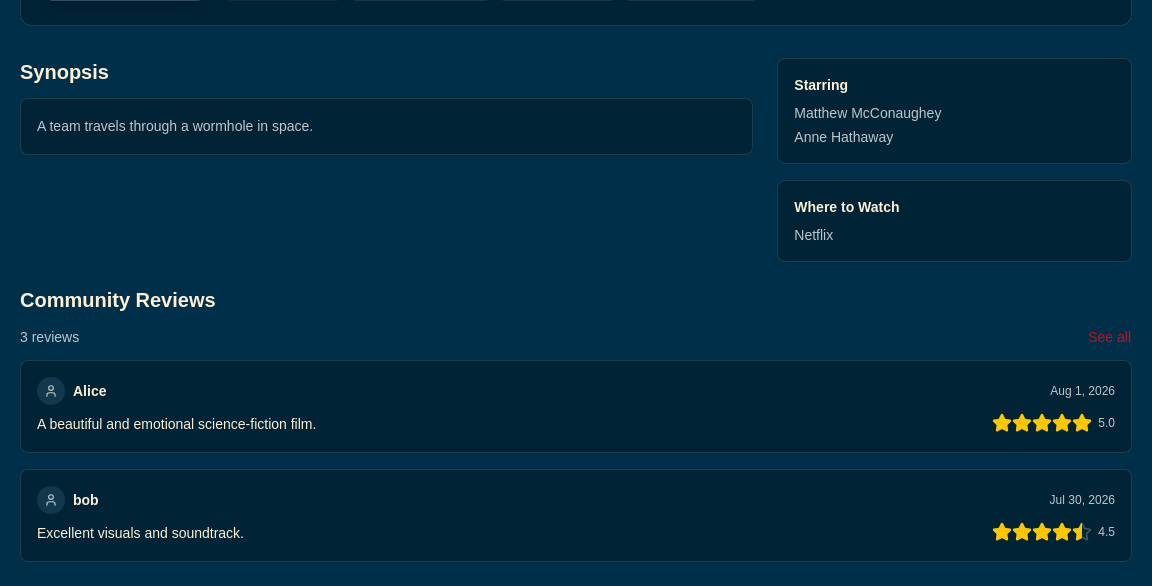
Scenario: Community reviews › shows two preview reviews and all reviews in a dialog
(page scrolled)
Expected: the text "3 reviews" is shown, x1=20 y1=327 x2=79 y2=347
Expected: the text "A beautiful and emotional science-fiction film." is shown, x1=37 y1=416 x2=316 y2=432
Step 1. Click the button "See all" → x=1110, y=337, box x1=1087 y1=326 x2=1132 y2=348
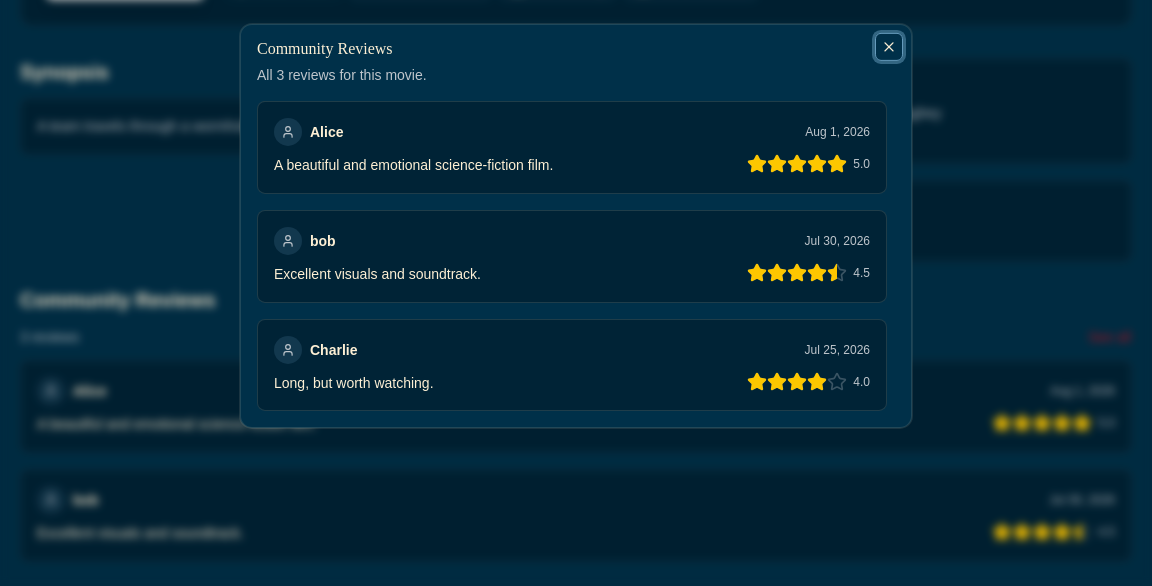
Result: the text "All 3 reviews for this movie." is shown at x1=257 y1=67 x2=427 y2=83
Result: the text "Long, but worth watching." is shown at x1=274 y1=374 x2=434 y2=390
